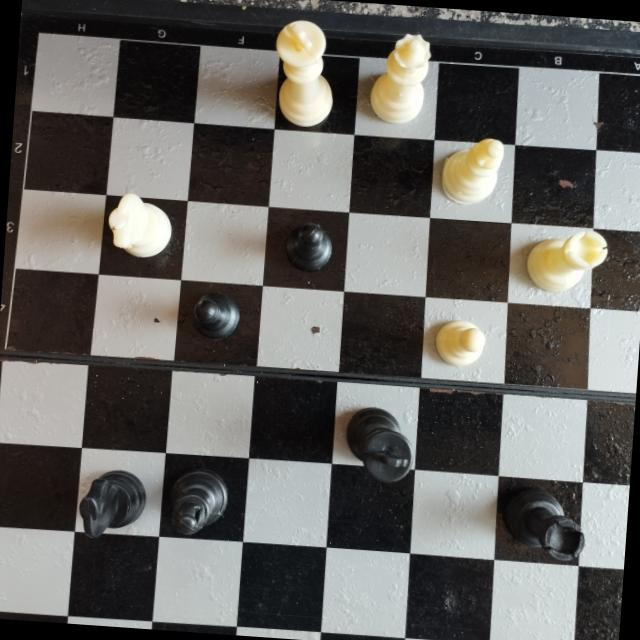Black Bishop: (162, 464, 232, 547)
Black King: (340, 401, 422, 494)
Black Knight: (76, 464, 154, 550)
Black Pawn: (281, 215, 340, 280), (188, 288, 244, 348)
Black Rook: (496, 474, 594, 578)
White Bishop: (436, 127, 508, 216)
White King: (266, 15, 342, 132)
White Knight: (102, 185, 180, 268)
White Pawn: (428, 312, 492, 373)
White Queen: (366, 23, 434, 133)
White Rook: (518, 220, 614, 302)
